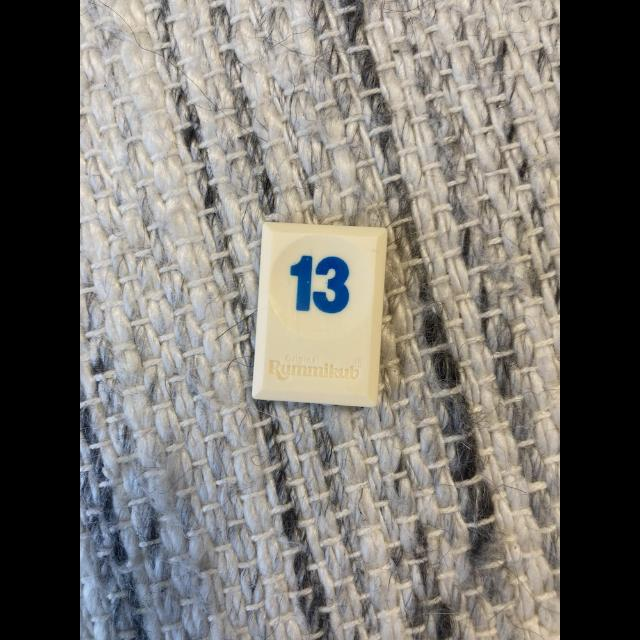blue_13: (252, 222, 386, 406)
